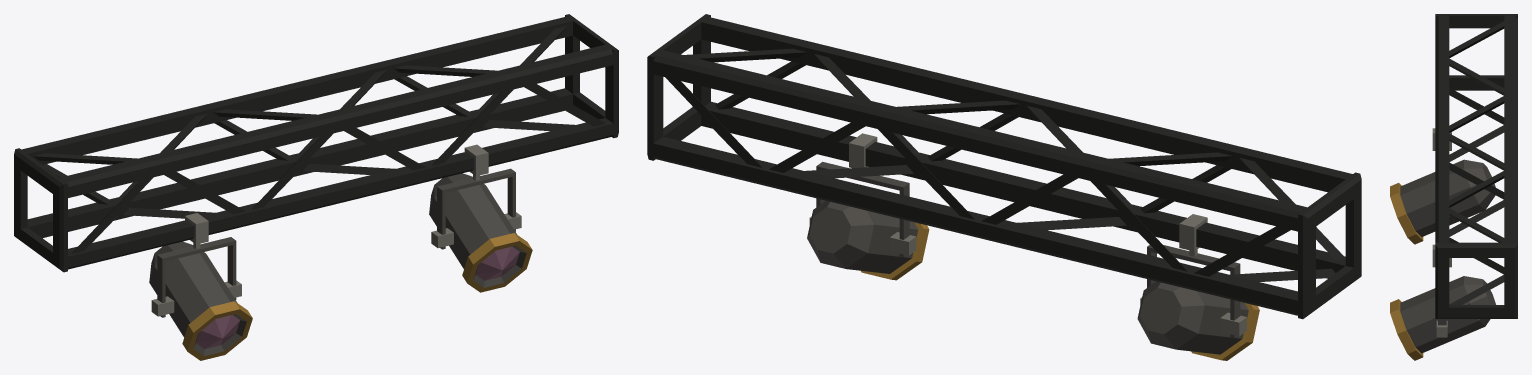
Rendered from stage-lighting-truss-run-34a824.glb.
3 views of the same model, side by side, from view 1: azimuth 30°, elevation 25°; view 2: azimuth 150°, elevation 25°; view 3: azimuth 270°, elevation 25° (orthographic). The views are drawn at different scales.
Parts seen in each view (by area): view 1: truss, can-l, can-r, yoke-l, yoke-r; view 2: truss, can-l, can-r, yoke-r, yoke-l; view 3: truss, can-l, can-r, yoke-r.
Part boxes in pixels (bbox=[...]): truss: bbox=[14, 14, 618, 272]; can-l: bbox=[149, 241, 252, 360]; can-r: bbox=[429, 173, 532, 292]; yoke-l: bbox=[151, 237, 241, 317]; yoke-r: bbox=[431, 168, 521, 249]; truss: bbox=[647, 14, 1361, 319]; can-l: bbox=[1137, 281, 1259, 360]; can-r: bbox=[807, 200, 929, 280]; yoke-r: bbox=[809, 161, 916, 257]; yoke-l: bbox=[1140, 245, 1246, 337]; truss: bbox=[1432, 14, 1517, 318]; can-l: bbox=[1390, 159, 1495, 244]; can-r: bbox=[1390, 276, 1495, 360]; yoke-r: bbox=[1436, 319, 1447, 337].
Bounding box in the file's own units: 2 × 0.6759 × 0.4649.
